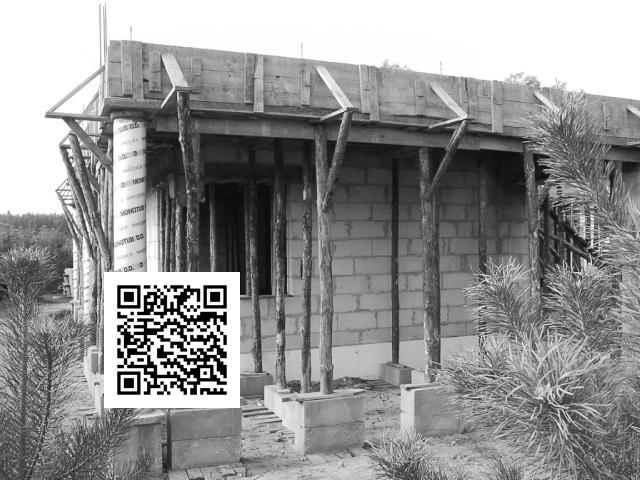qr_code: (105, 272, 239, 407)
